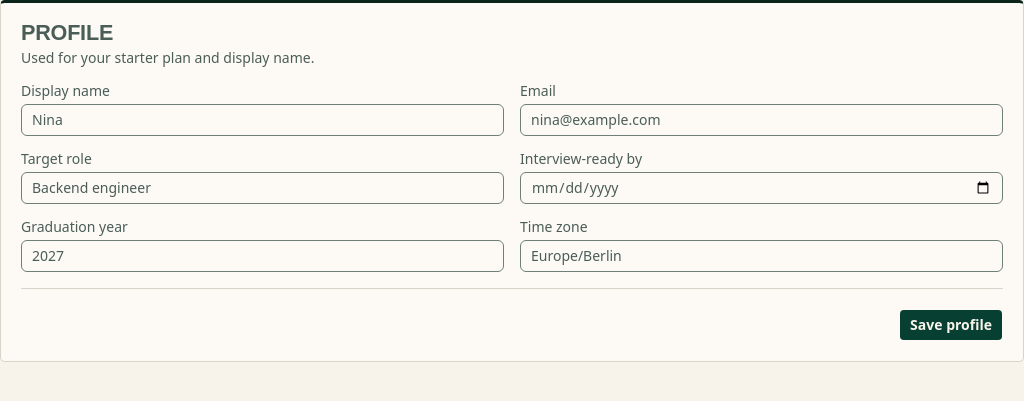
Test: ProfileForm › blocks an invalid email before saving
The width and height of the screenshot is (1024, 401).
Replace the text in the field labelled "Email" with "nope": [762, 120] box [520,104,1003,136]
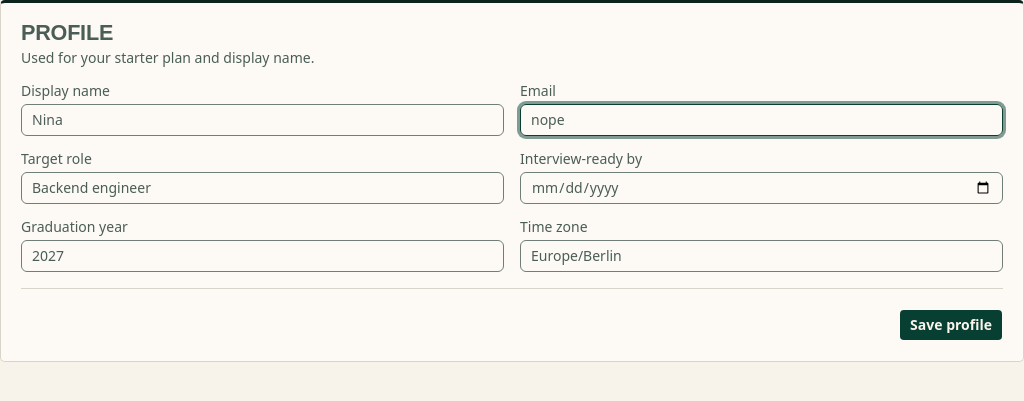
Click the button "Save profile": [951, 324] box [899,308,1003,340]
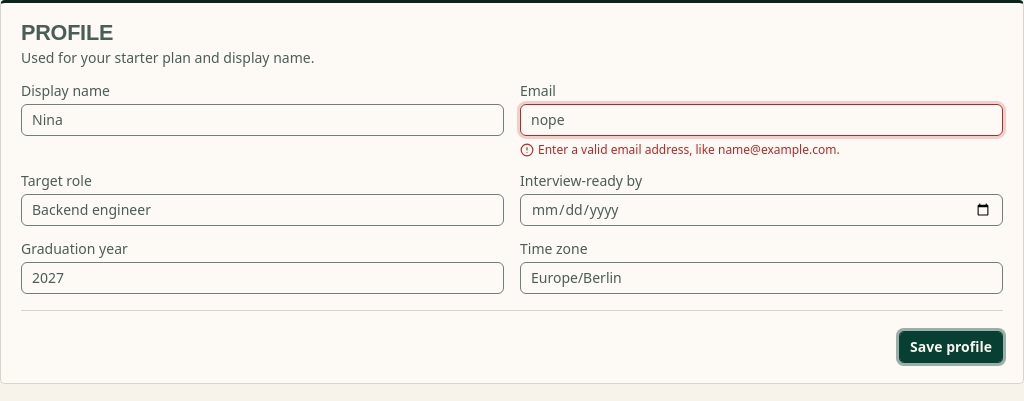
expect the text "Enter a valid email address, like name@example.com." is shown: met, box [520,140,840,158]
